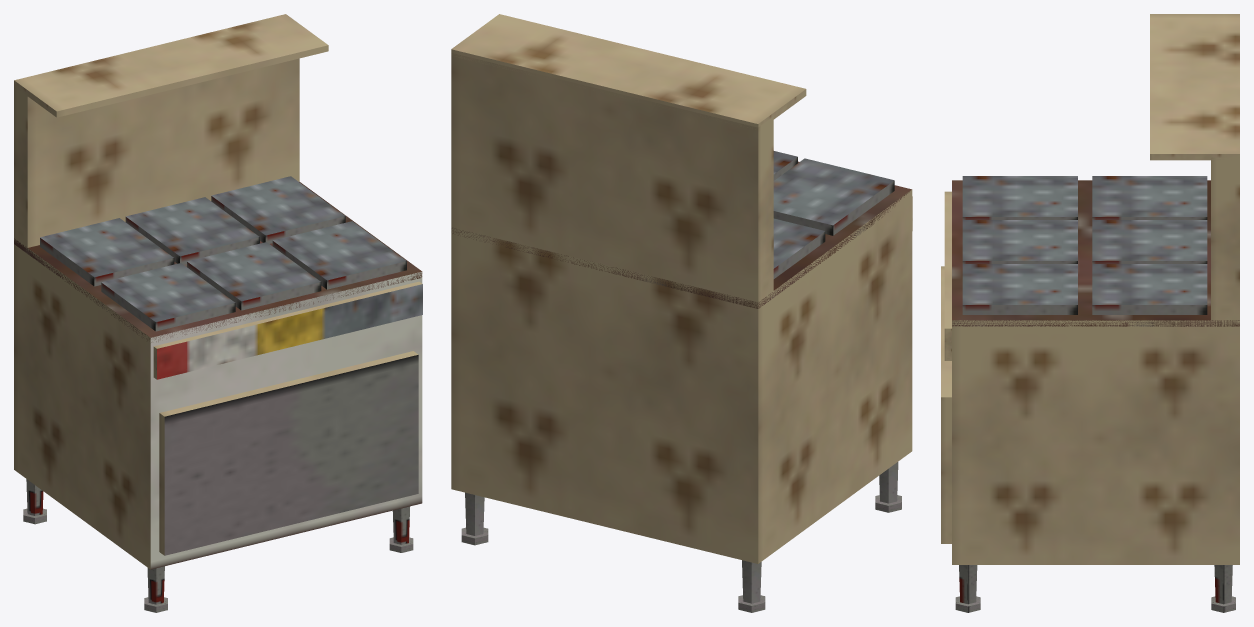
Rendered from range_six.fbx.
3 renders of one model, left to right at view 1: azimuth 30°, elevation 25°; view 2: azimuth 150°, elevation 25°; view 3: azimuth 270°, elevation 25°, orthographic. The views are drawn at different scales.
Visible parts, largest first — view 1: range_six, range_six_door; view 2: range_six; view 3: range_six, range_six_door.
Boxes of the visible parts, bbox=[...] form: range_six: bbox=[14, 14, 422, 612]; range_six_door: bbox=[159, 351, 418, 555]; range_six: bbox=[451, 14, 912, 612]; range_six: bbox=[944, 14, 1239, 612]; range_six_door: bbox=[941, 266, 951, 543].
Size of the model in its own units: 0.92 by 1.41 by 0.83.
